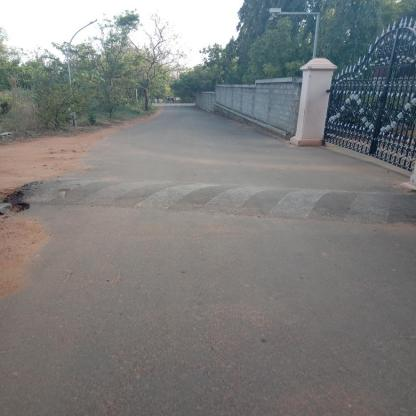speed-bumps: (12, 161, 416, 234)
